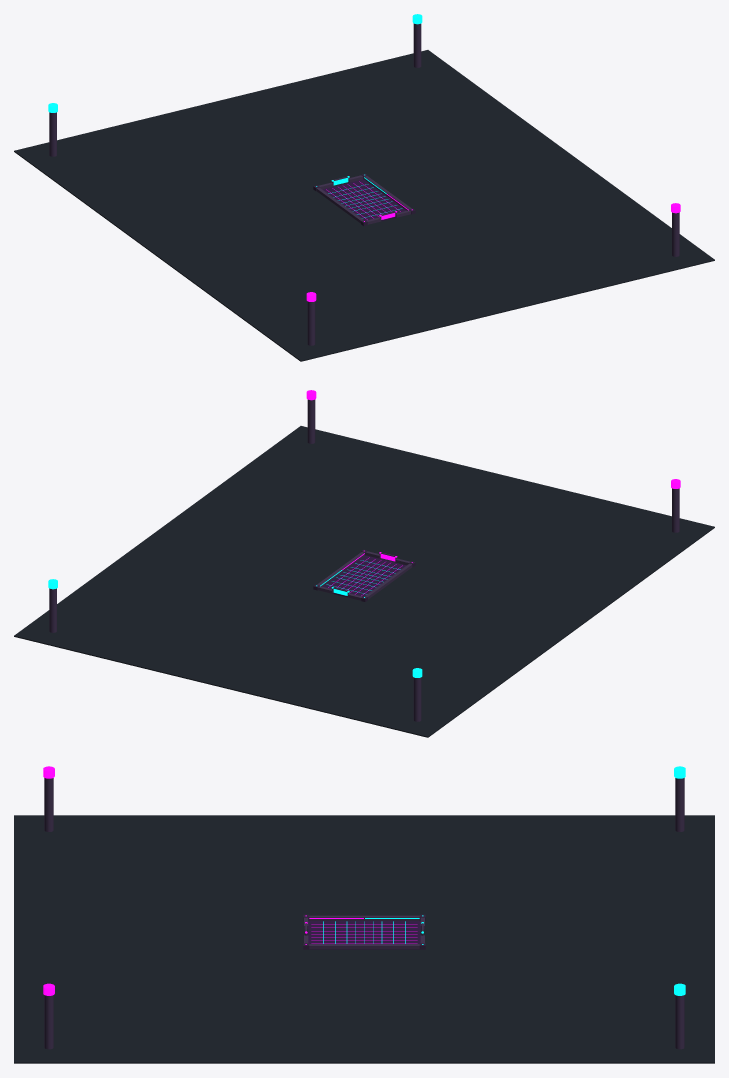
File: mesa_retro_synthwave.glb
3 views of the same model, one above another, from view 1: azimuth 30°, elevation 25°; view 2: azimuth 150°, elevation 25°; view 3: azimuth 270°, elevation 25° (orthographic). The views are drawn at different scales.
Visible parts, largest first — view 1: Cube.020, Synthwave_Surface; view 2: Cube.020, Synthwave_Surface; view 3: Cube.020, Synthwave_Surface, Synthwave_RailR, Synthwave_RailL, Cylinder.012, Cylinder.014, Cylinder.016, Cylinder.018.
Boxes of the visible parts, x1=… form: Cube.020: x1=14, y1=50, x2=714, y2=361; Synthwave_Surface: x1=322, y1=179, x2=406, y2=221; Cube.020: x1=14, y1=426, x2=714, y2=737; Synthwave_Surface: x1=322, y1=555, x2=406, y2=597; Cube.020: x1=14, y1=815, x2=714, y2=1063; Synthwave_Surface: x1=308, y1=921, x2=420, y2=949; Synthwave_RailR: x1=309, y1=944, x2=419, y2=949; Synthwave_RailL: x1=309, y1=915, x2=419, y2=920; Cylinder.012: x1=44, y1=778, x2=53, y2=831; Cylinder.014: x1=44, y1=995, x2=53, y2=1049; Cylinder.016: x1=675, y1=778, x2=684, y2=831; Cylinder.018: x1=675, y1=995, x2=684, y2=1049.
Size of the model in its own units: 10 by 1.18 by 12.
